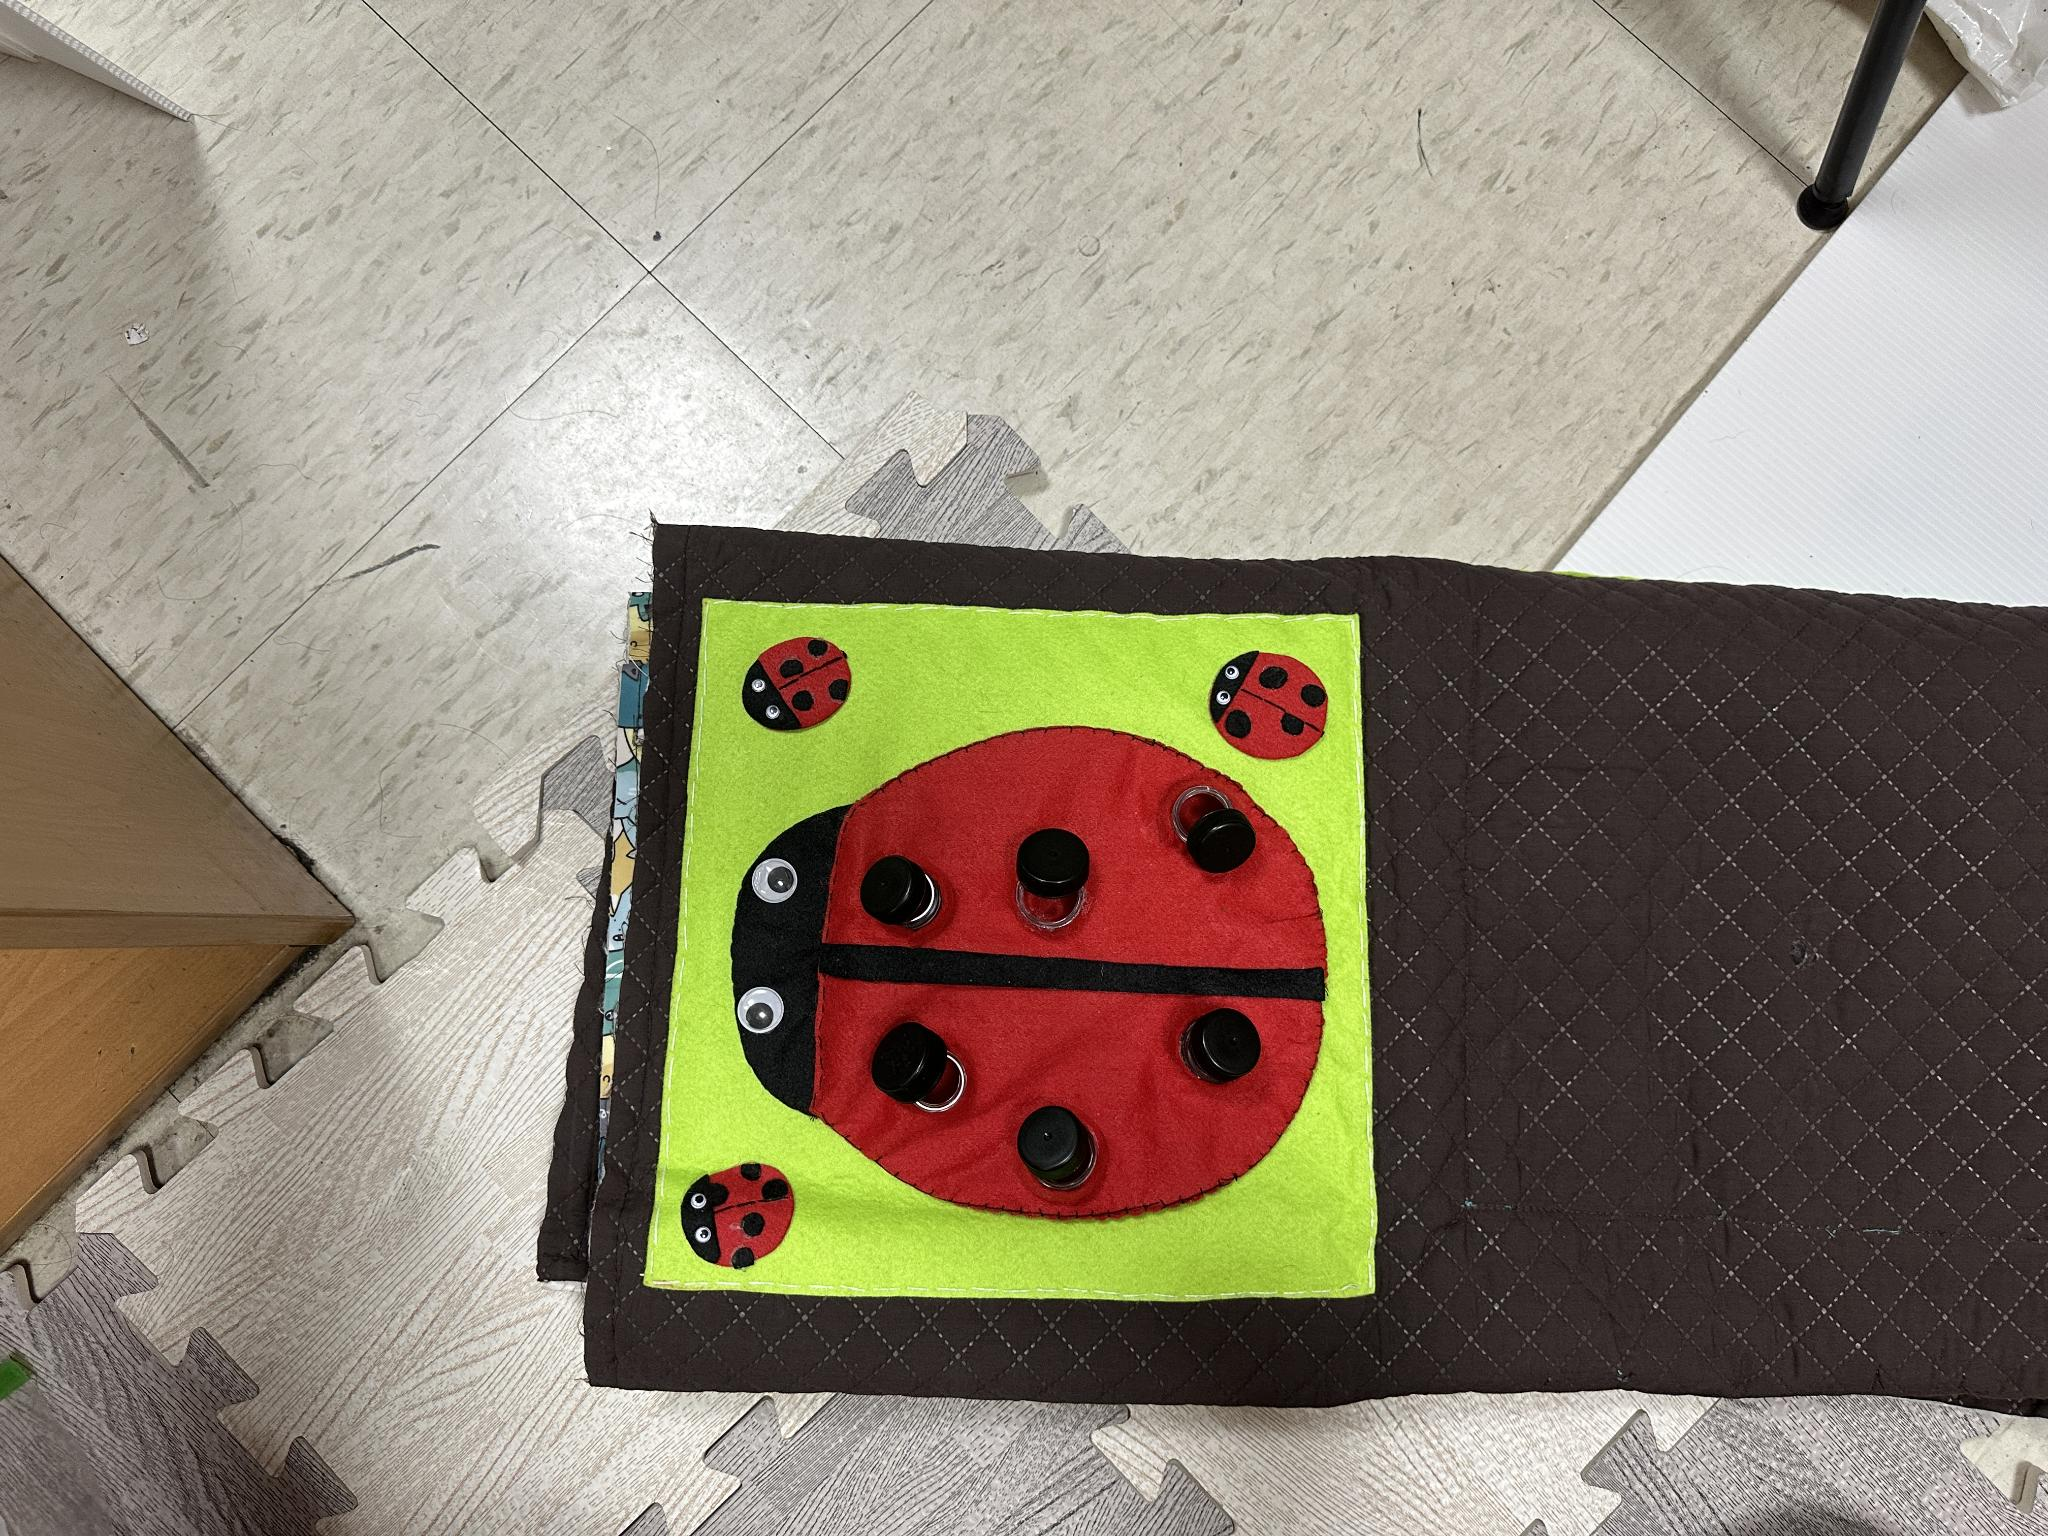cap_ng: (855, 997, 987, 1123), (1156, 765, 1271, 894), (1000, 818, 1108, 949), (847, 831, 959, 944)
cap_ok: (1000, 1092, 1116, 1207), (1166, 991, 1271, 1099)
